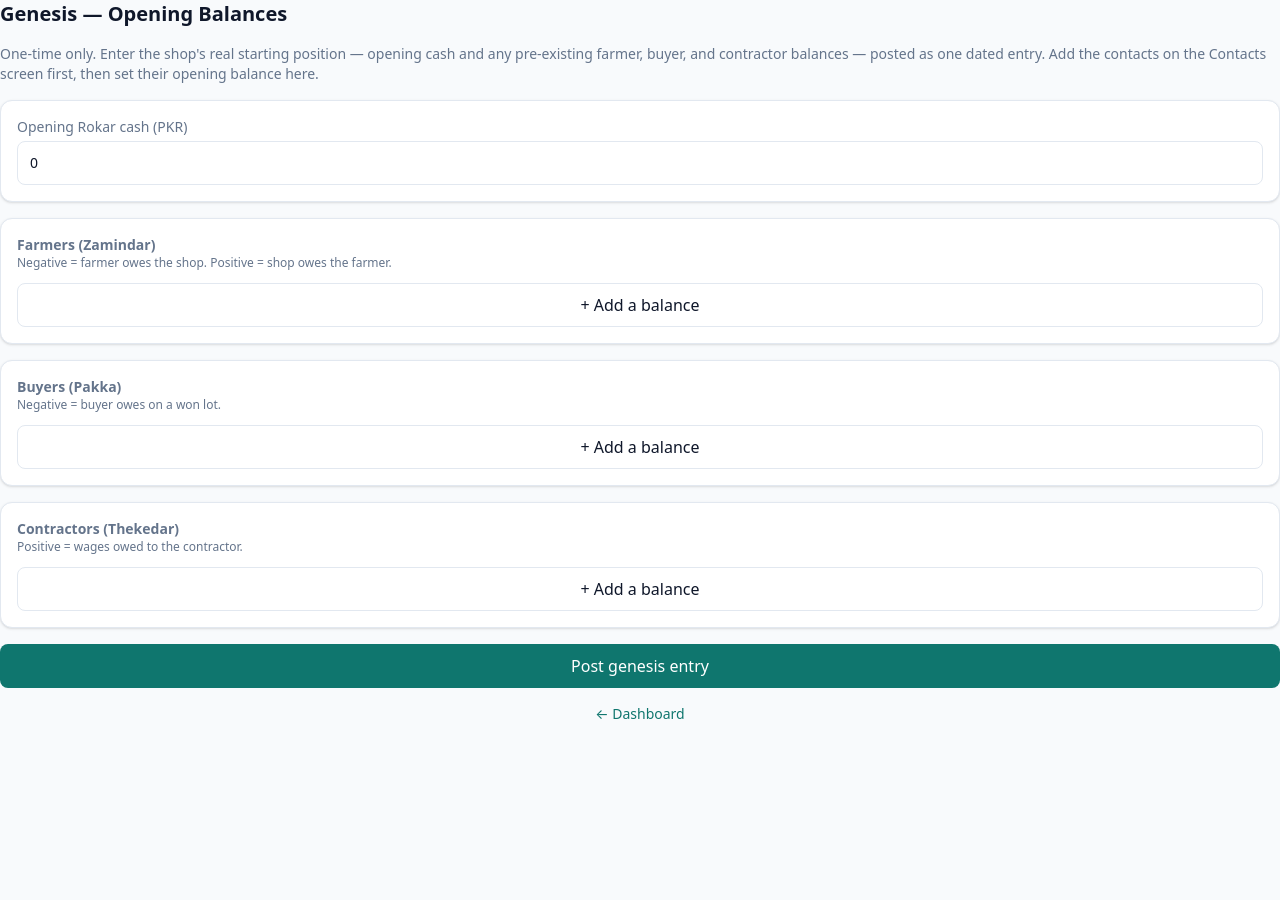
Genesis › adds a farmer opening balance via the ContactPicker and posts the genesis entry
The width and height of the screenshot is (1280, 900).
Replace the text in the number field labelled "Opening Rokar cash (PKR)" with "100000" at (640, 163), box left=17, top=141, right=1263, bottom=185
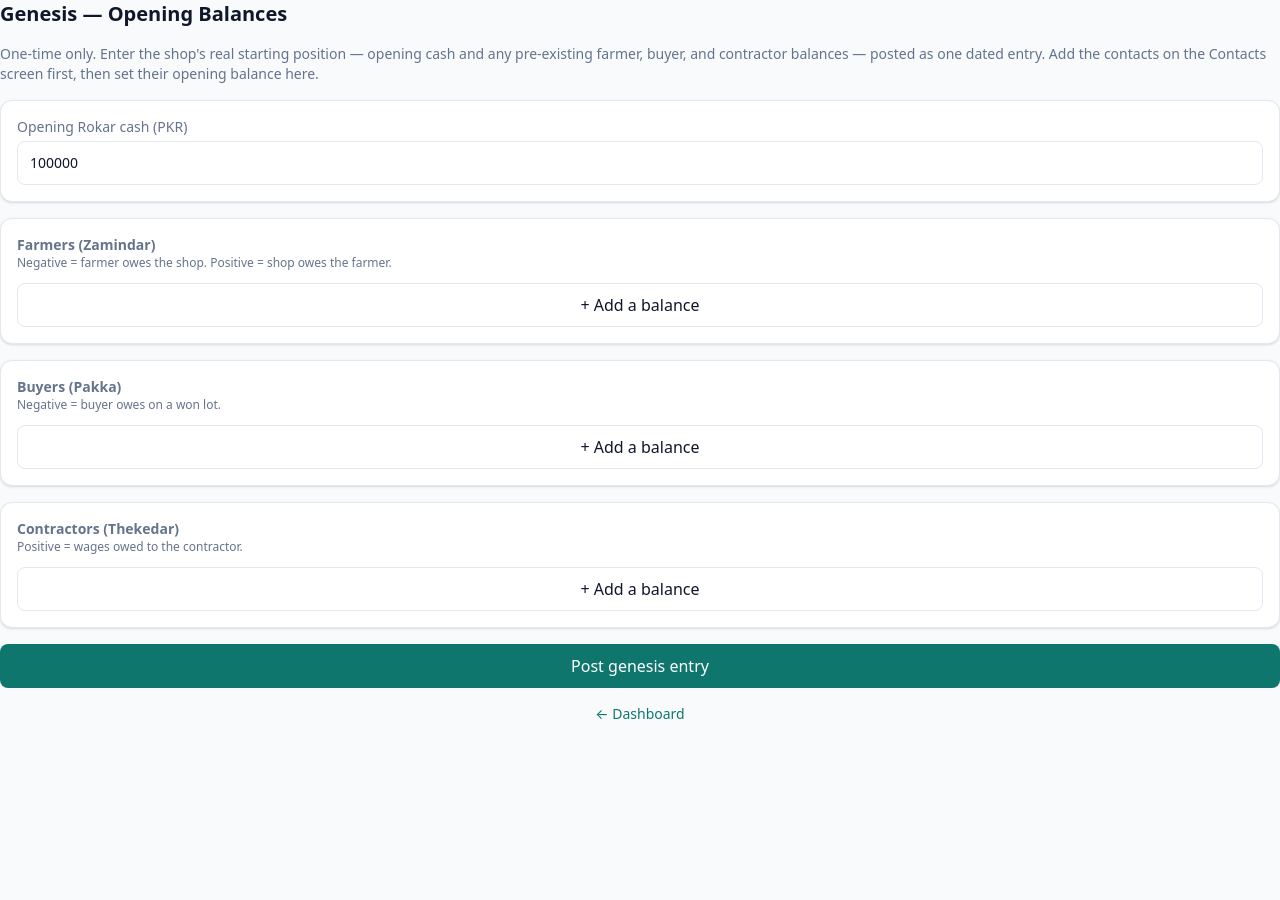
// Add a farmer row, pick the contact, set its opening balance.
Click the button "+ Add a balance" below "Farmers (Zamindar)" at (640, 305), box left=17, top=283, right=1263, bottom=327
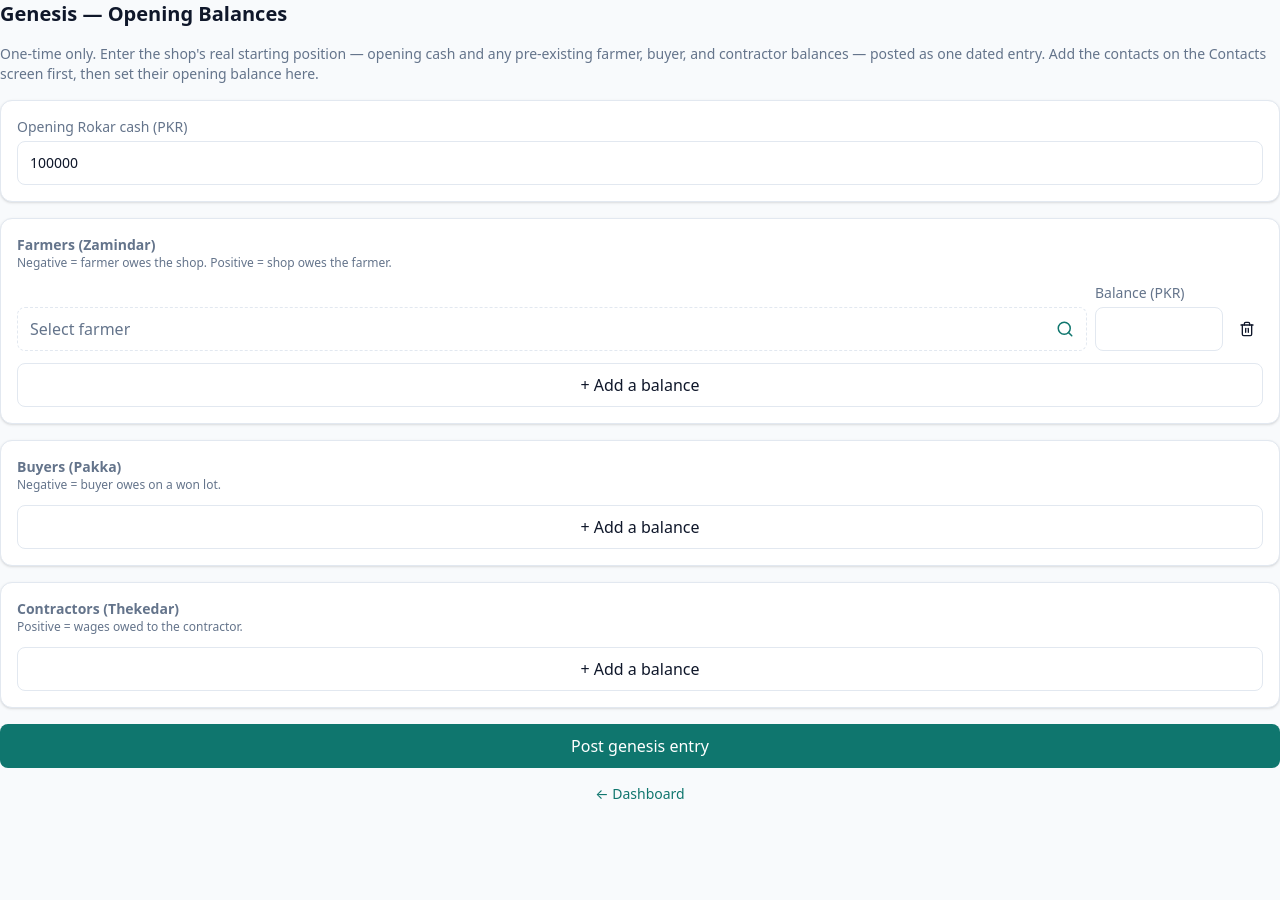
Click the button "Select farmer" at (80, 329), box left=17, top=307, right=1087, bottom=351
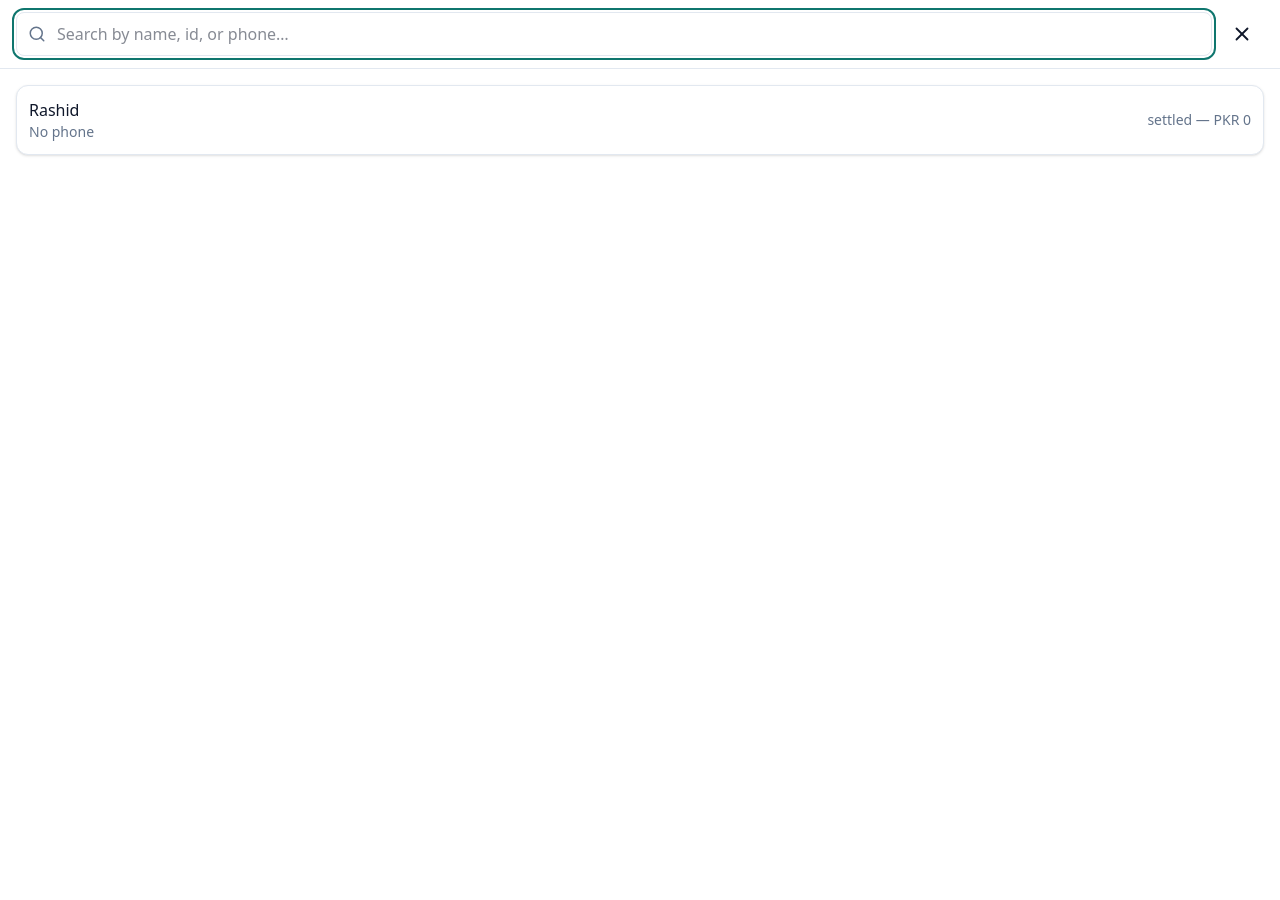
Click the text "Rashid" at (54, 110), box left=29, top=99, right=80, bottom=121
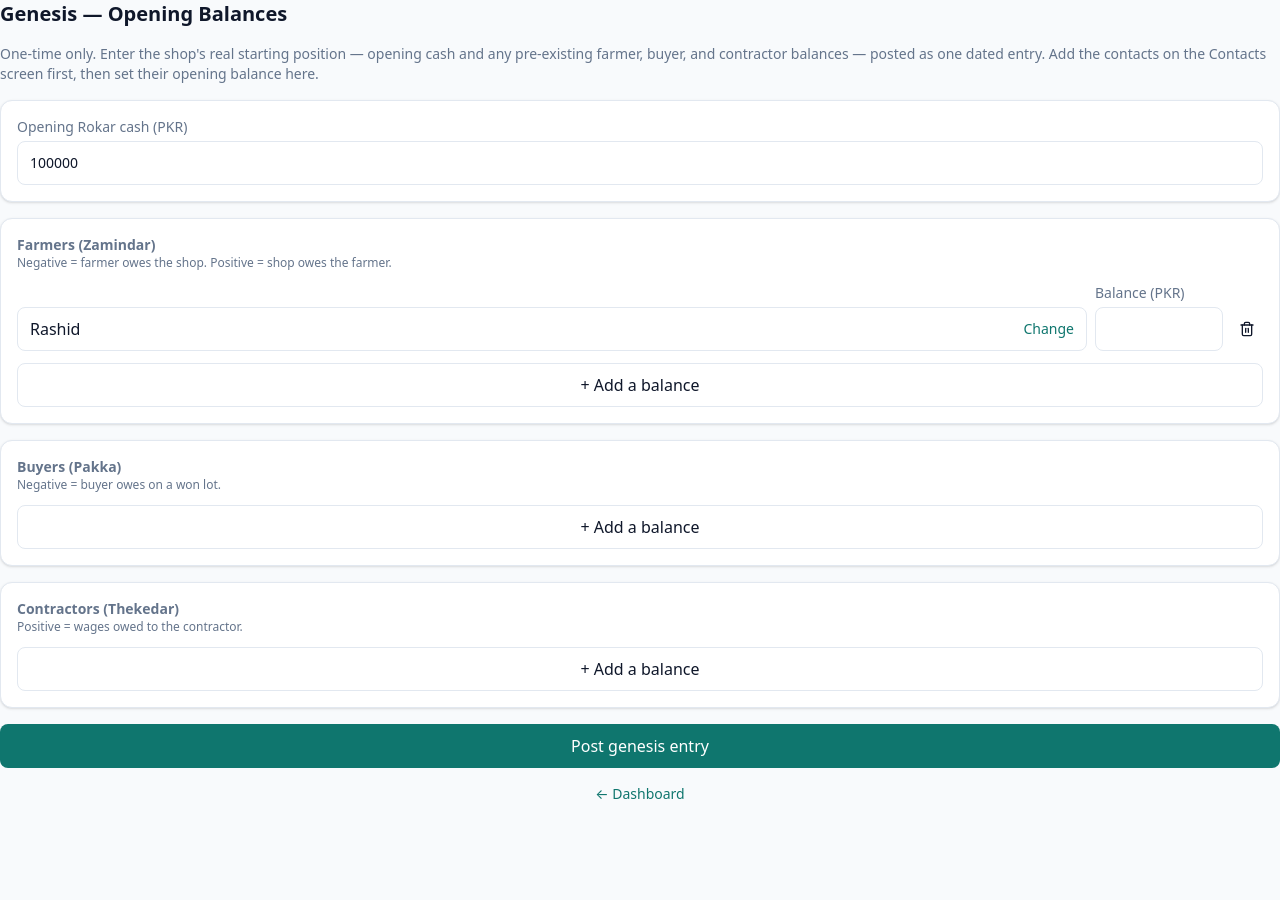
Type "-5000" into the number field labelled "Balance (PKR)" at (1159, 329), box left=1095, top=307, right=1223, bottom=351
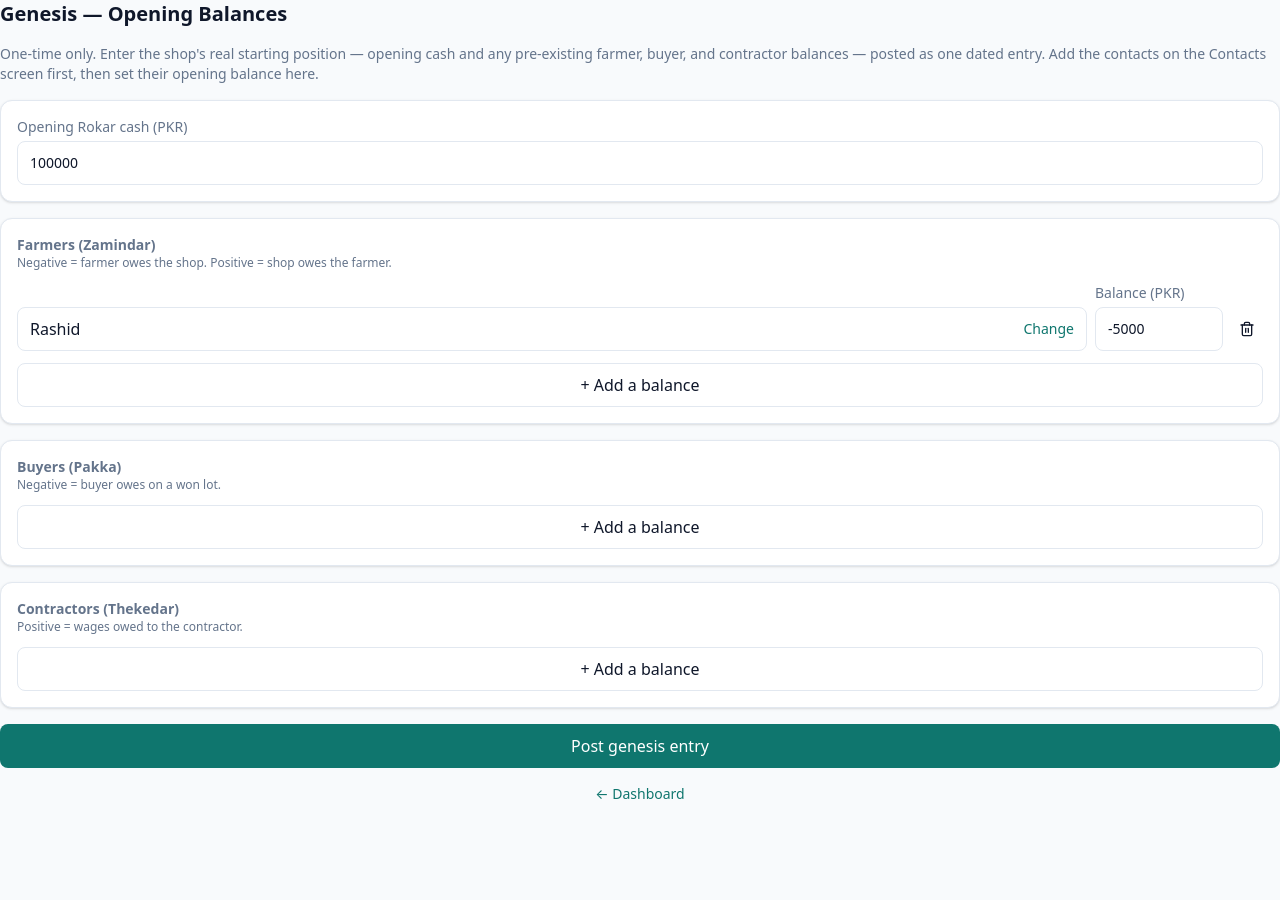
Click the button "Post genesis entry" at (640, 746), box left=0, top=724, right=1279, bottom=768
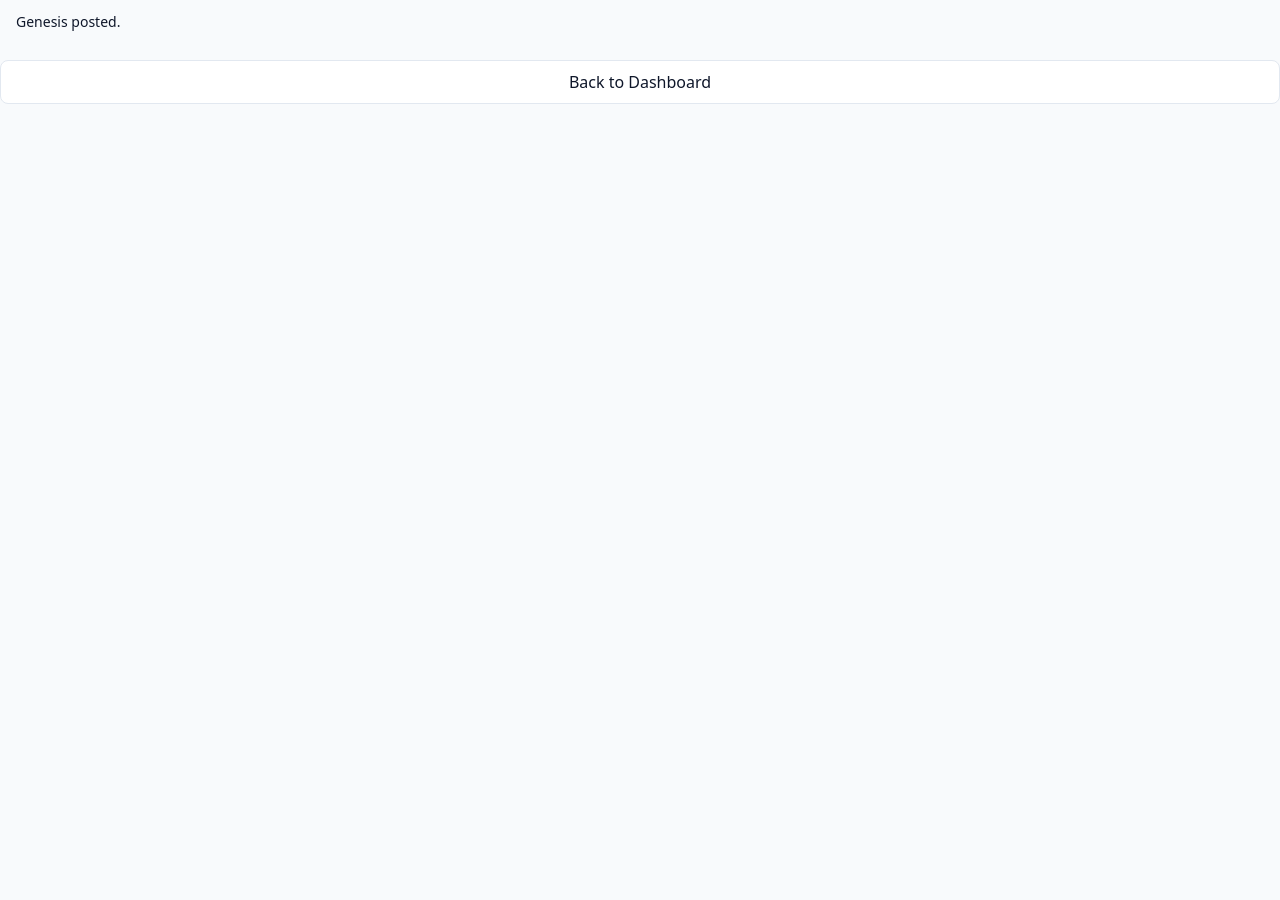
Result: the text "Genesis posted." is shown at left=16, top=12, right=120, bottom=31
